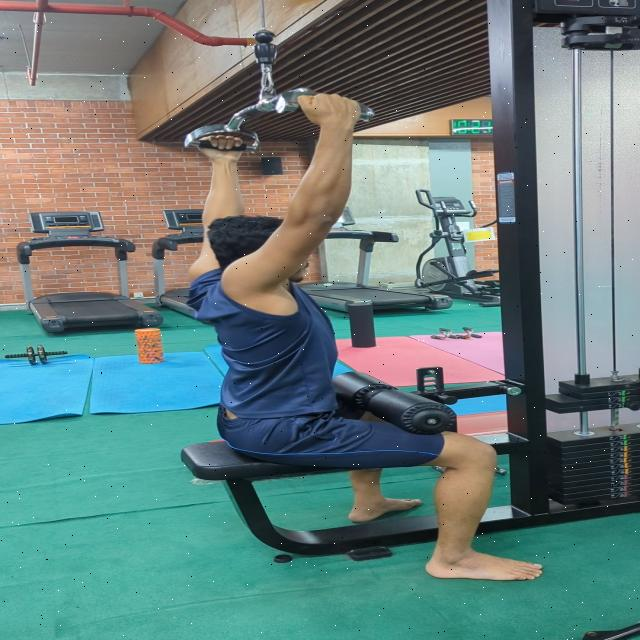Normal_LatPulldown: (133, 83, 560, 605)
